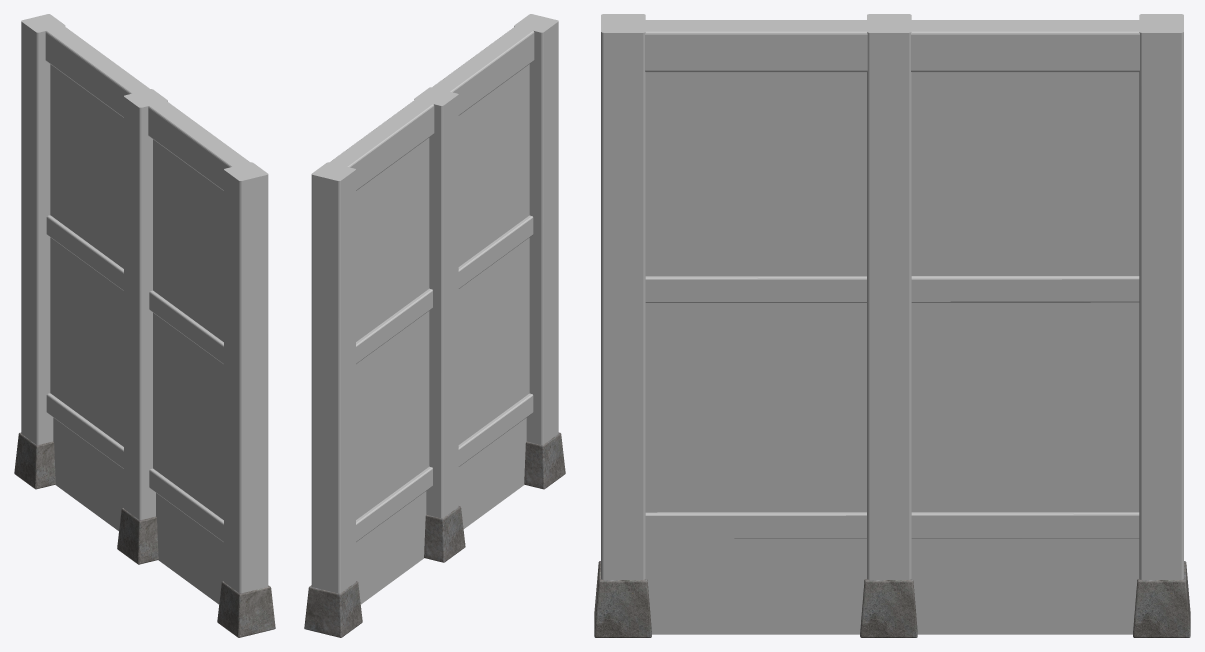
File: SM_Building_Wall_23.FBX
3 views of the same model, side by side, from view 1: azimuth 30°, elevation 25°; view 2: azimuth 150°, elevation 25°; view 3: azimuth 270°, elevation 25° (orthographic). The views are drawn at different scales.
Parts seen in each view (by area): view 1: SM_Building_Wall_23; view 2: SM_Building_Wall_23; view 3: SM_Building_Wall_23.
Part boxes in pixels (box(x1,y1,x2,y2)): SM_Building_Wall_23: box(14, 14, 275, 637); SM_Building_Wall_23: box(304, 14, 565, 637); SM_Building_Wall_23: box(594, 14, 1190, 637).
Bounding box in the file's own units: 50.53 × 582 × 522.
